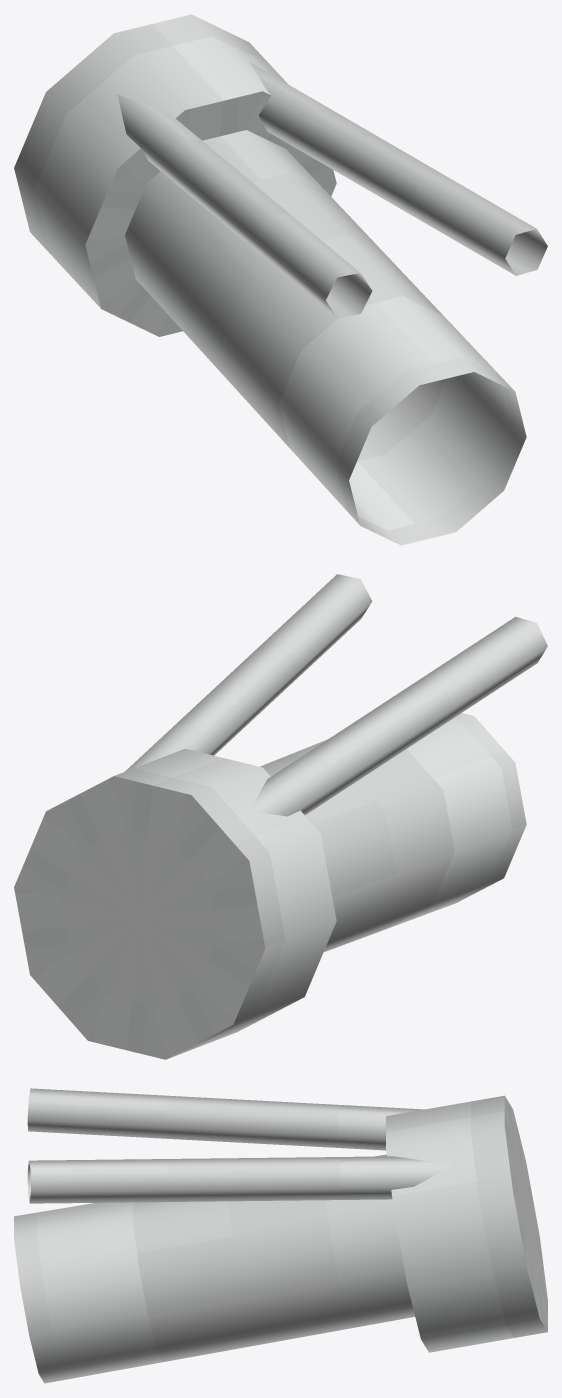
File: nycsignalarm_regular8_c15.obj
The picture shows the model from 3 angles, top to bottom: view 1: azimuth 30°, elevation 25°; view 2: azimuth 150°, elevation 25°; view 3: azimuth 270°, elevation 25°; orthographic projection. The views are drawn at different scales.
Visible parts, largest first — view 1: nycsignalarm_regular8_c15; view 2: nycsignalarm_regular8_c15; view 3: nycsignalarm_regular8_c15.
Part boxes in pixels (bbox=[...]): nycsignalarm_regular8_c15: bbox=[14, 14, 547, 545]; nycsignalarm_regular8_c15: bbox=[14, 574, 547, 1059]; nycsignalarm_regular8_c15: bbox=[14, 1088, 547, 1383].
Size of the model in its own units: 0.35 by 0.4163 by 0.7721.
